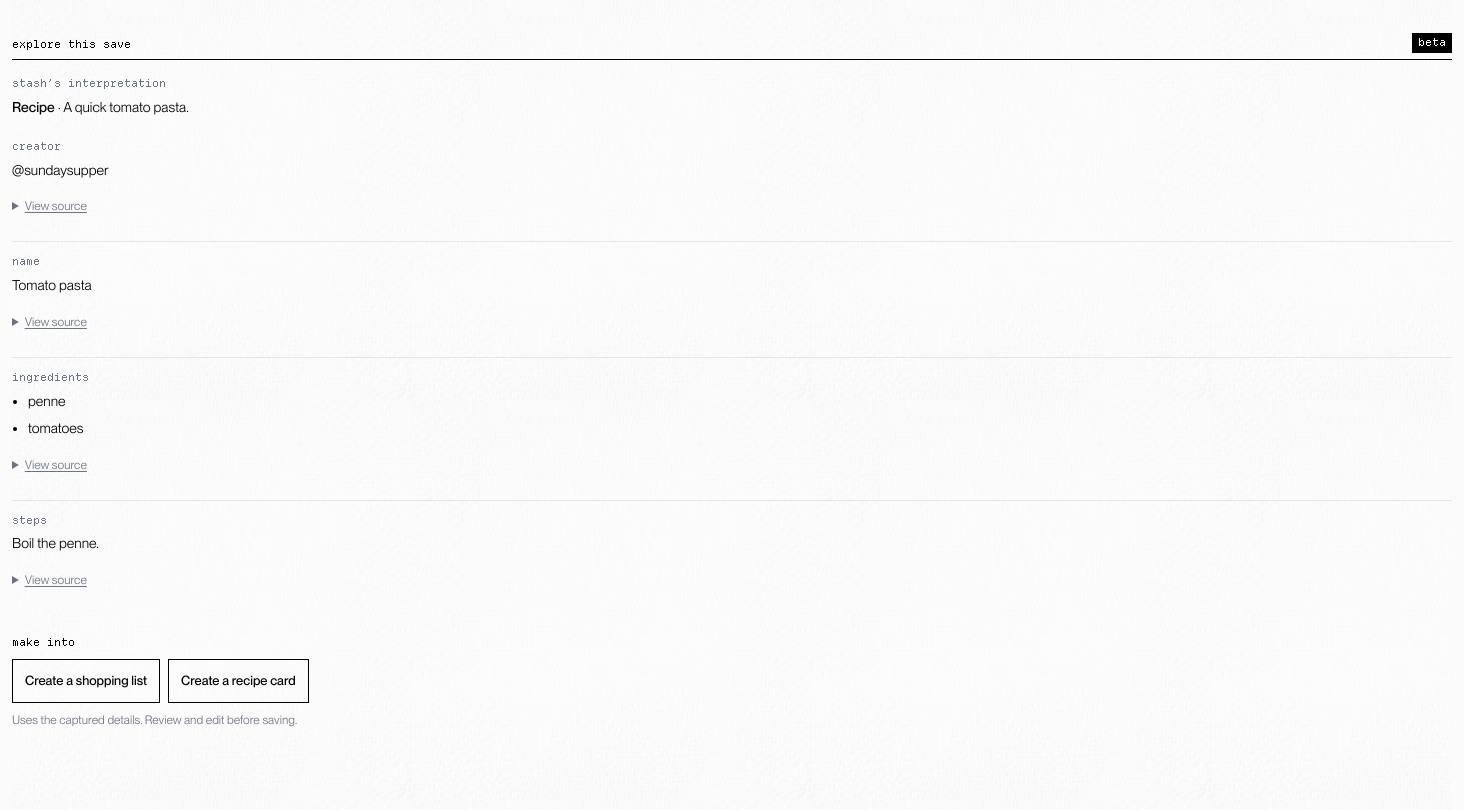
Test case: blocks duplicate saves while capture is pending and after success
Later steps or results of the test are not shown.
What coordinates should you click on to do the following:
click the button "Create a shopping list"
I would click on:
 (86, 681)
Its box is x1=12 y1=659 x2=160 y2=703.
(page scrolled)
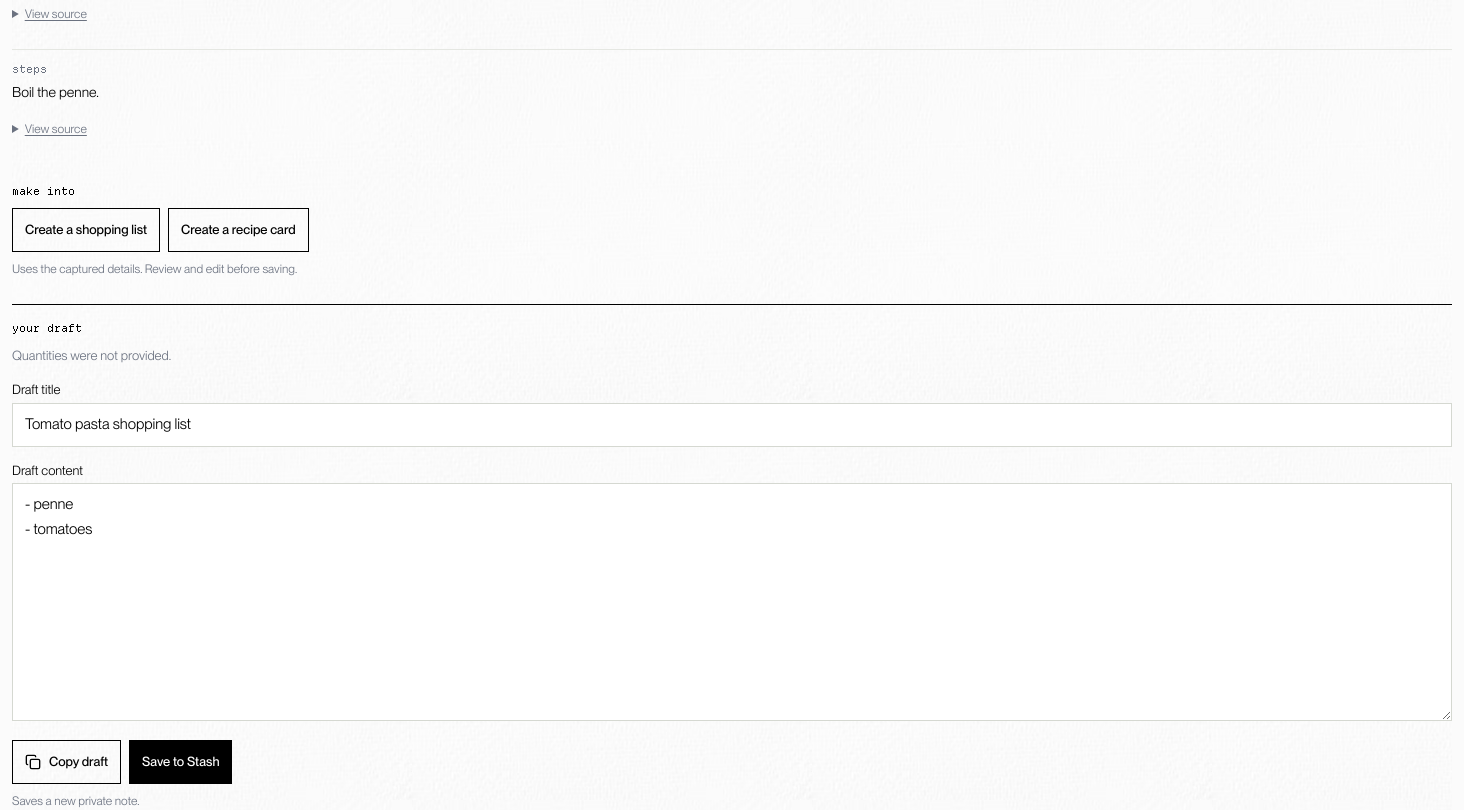
What coordinates should you click on to do the following:
click the button "Save to Stash"
I would click on:
 (181, 762)
Its box is x1=129 y1=740 x2=232 y2=784.
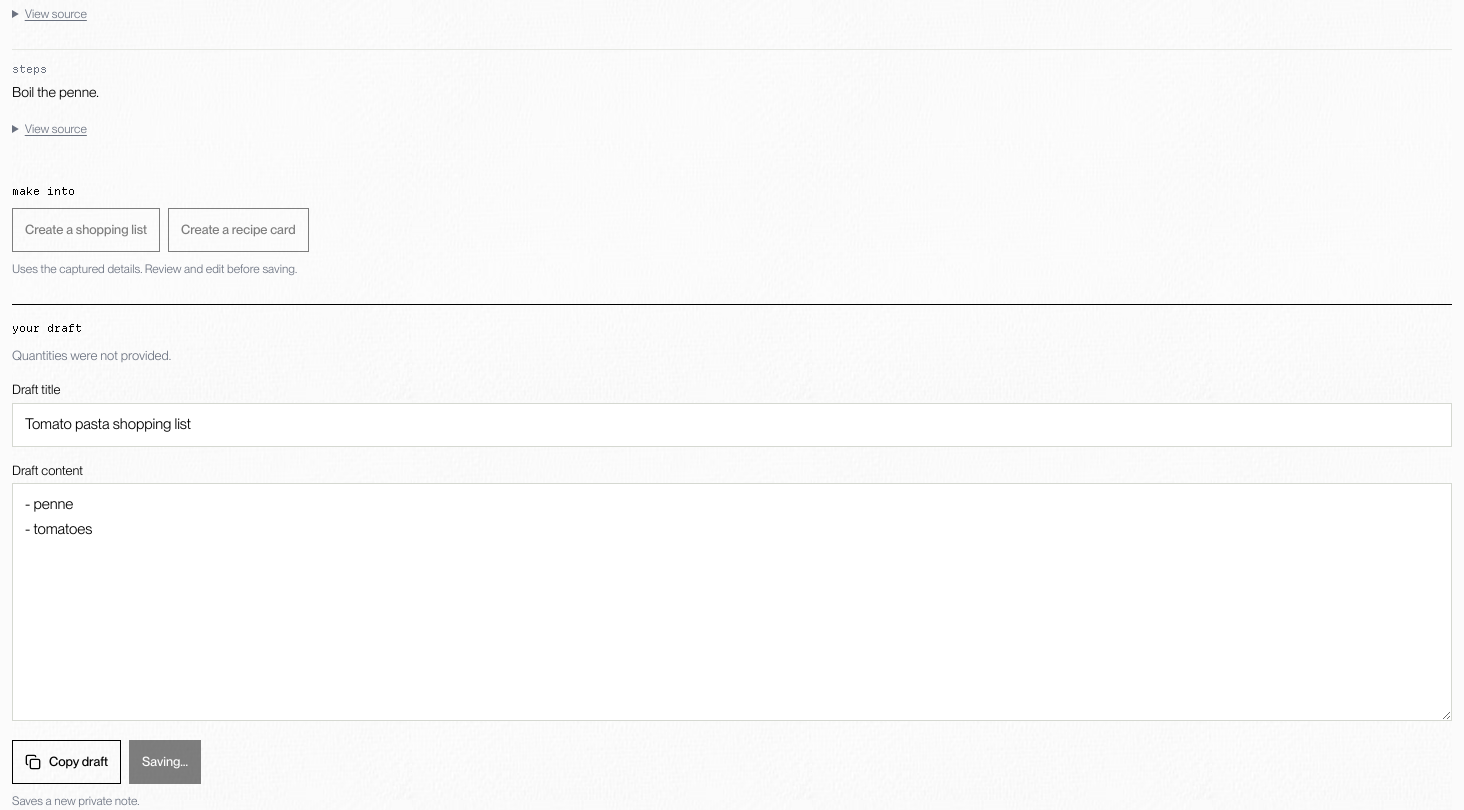
What coordinates should you click on to do the following:
click the button named "Save to Stash"
I would click on:
 (165, 762)
Its box is x1=129 y1=740 x2=201 y2=784.
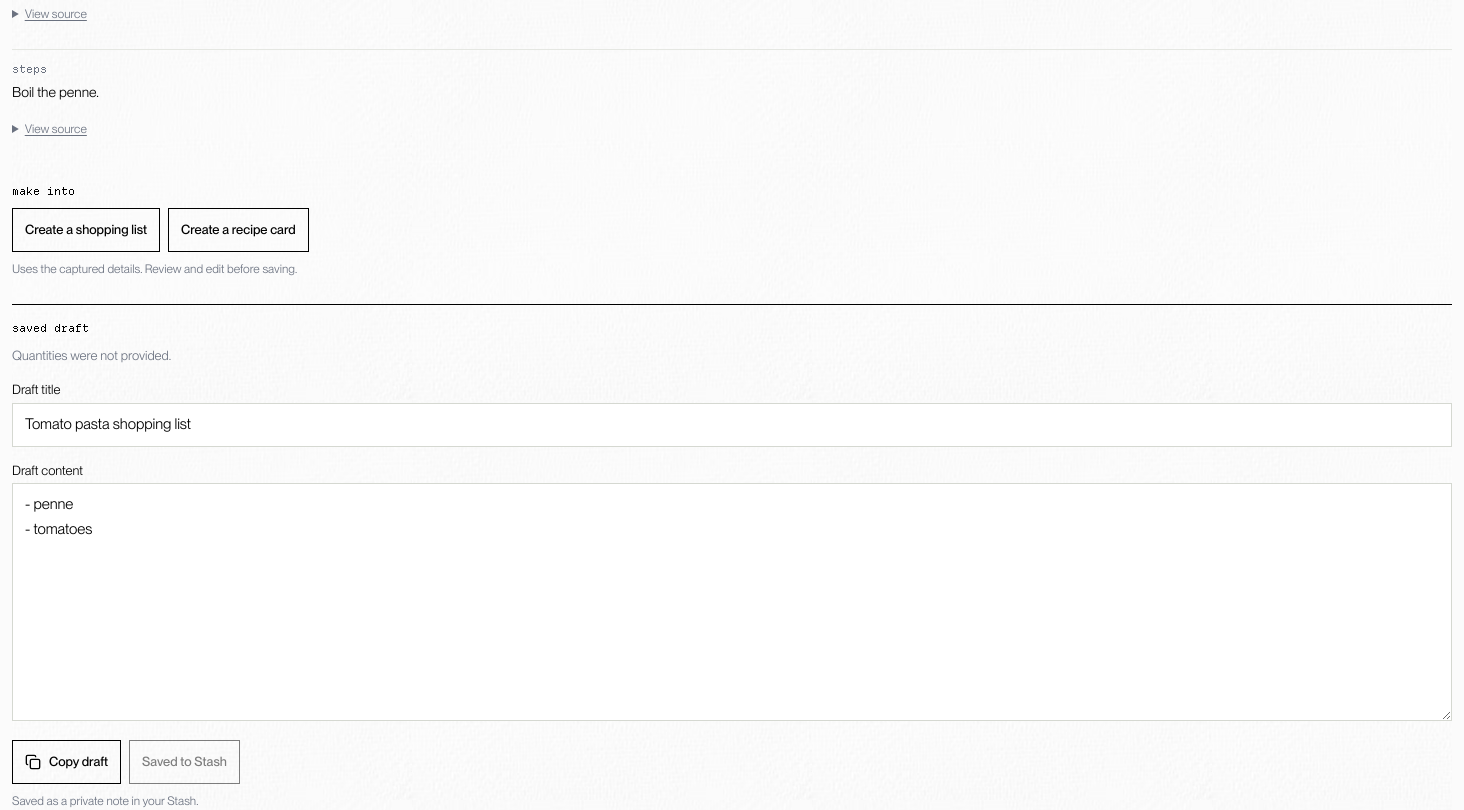
Expected: the text box labelled "Draft content" is disabled, x1=12 y1=484 x2=1452 y2=721
